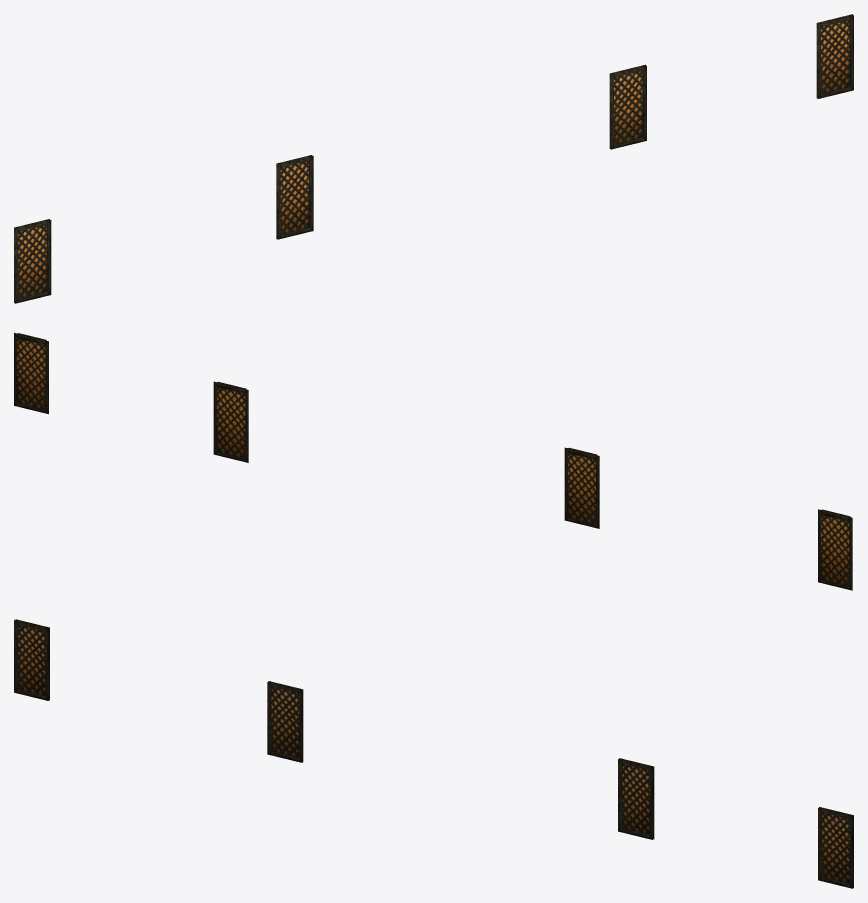
Rendered from LAKETOWN_EXTERIOR_PS_LT_WINDOW_LONG_LOD1_45.fbx.
3 views of the same model, one above another, from view 1: azimuth 30°, elevation 25°; view 2: azimuth 150°, elevation 25°; view 3: azimuth 330°, elevation 25° (orthographic). The views are drawn at different scales.
Parts seen in each view (by area): view 1: LAKETOWN_EXTERIOR_PS_LT_WINDOW_LONG_LOD1_45; view 2: LAKETOWN_EXTERIOR_PS_LT_WINDOW_LONG_LOD1_45; view 3: LAKETOWN_EXTERIOR_PS_LT_WINDOW_LONG_LOD1_45.
Part boxes in pixels (bbox=[...]): LAKETOWN_EXTERIOR_PS_LT_WINDOW_LONG_LOD1_45: bbox=[14, 14, 853, 303]; LAKETOWN_EXTERIOR_PS_LT_WINDOW_LONG_LOD1_45: bbox=[14, 333, 852, 590]; LAKETOWN_EXTERIOR_PS_LT_WINDOW_LONG_LOD1_45: bbox=[14, 619, 853, 888].
Bounding box in the file's own units: 175494 × 15989 × 5710.
2 materials, 2 textured.
